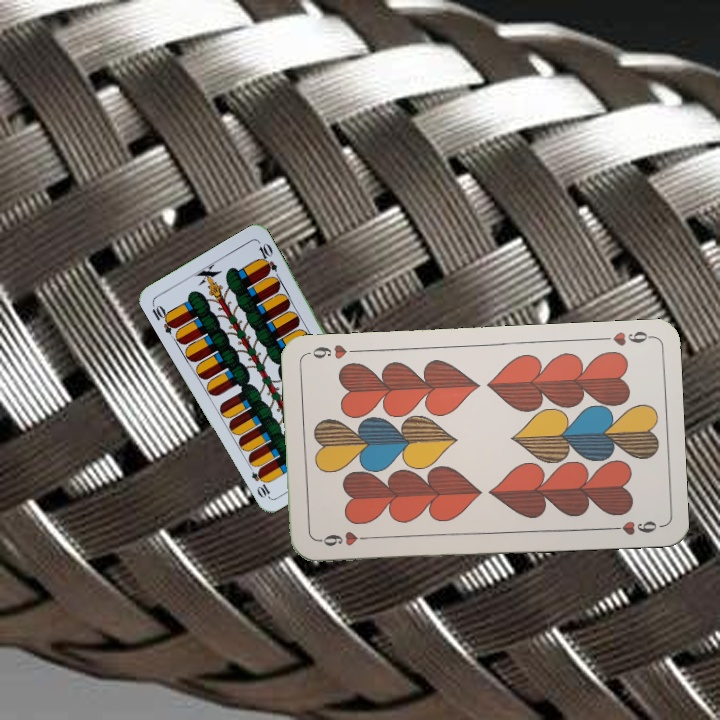E10: (148, 299, 179, 336)
H9: (314, 527, 373, 549), (595, 327, 654, 348)
